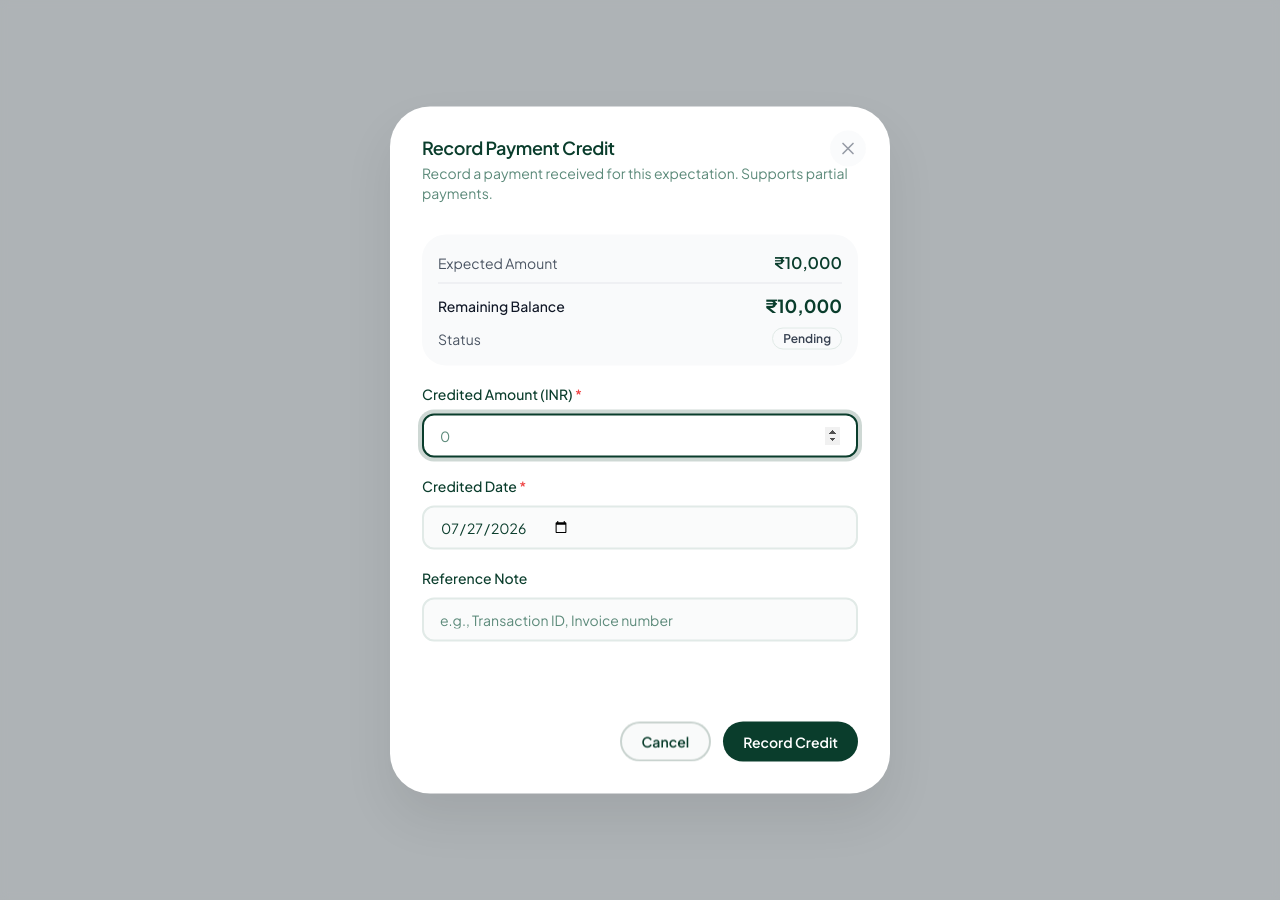
PaymentCreditModal › Form Validation › should show error when amount is 0
Click the button "Record Credit": (791, 742) [723, 722, 858, 762]
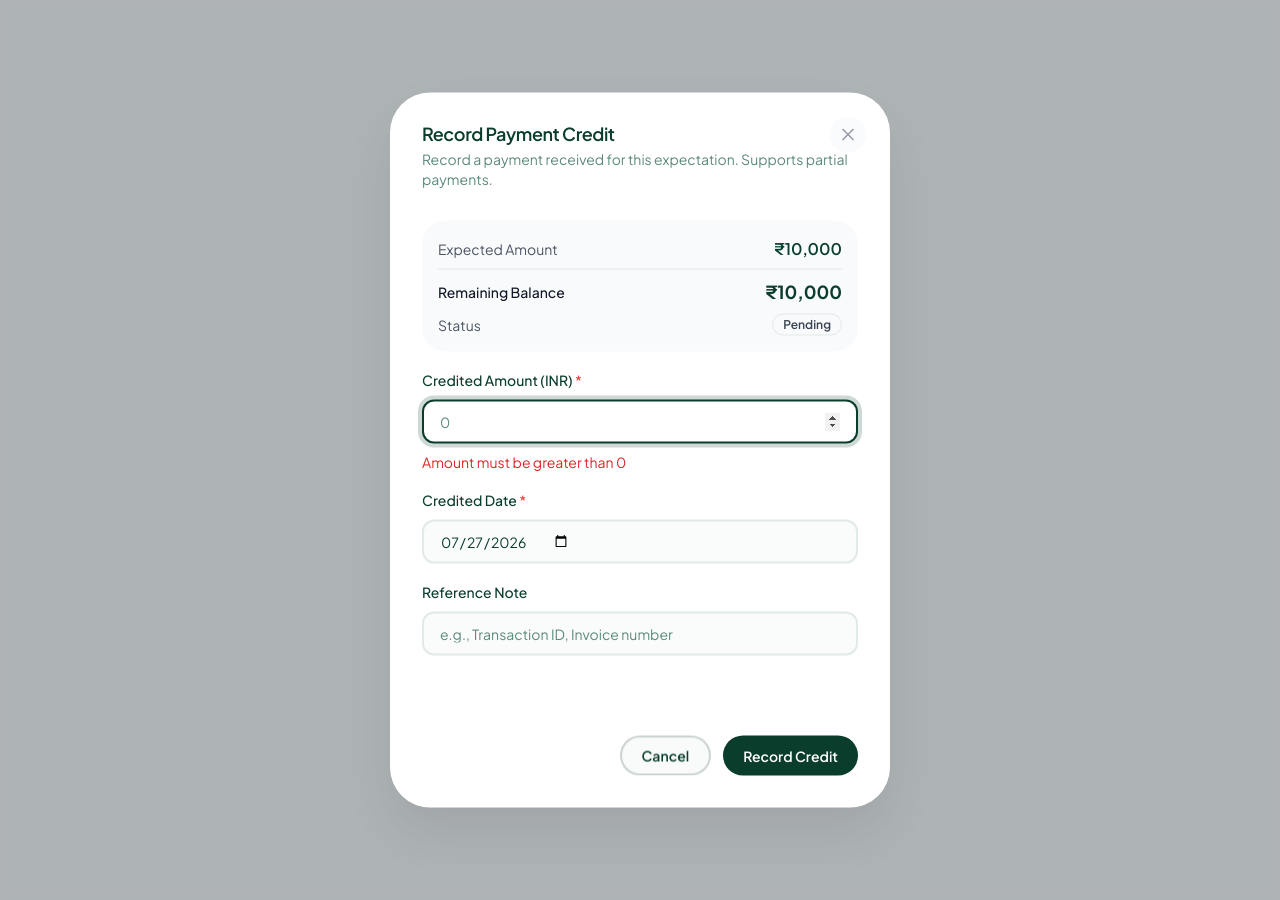
Now the text "Amount must be greater than 0" is shown, box [422, 452, 626, 470]
